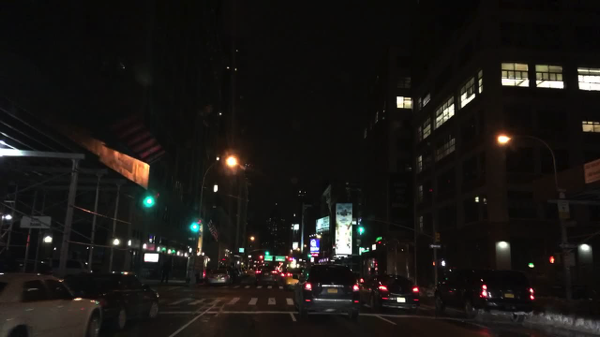car: (0, 275, 103, 337), (433, 269, 535, 323), (77, 272, 160, 331), (292, 264, 361, 322), (359, 274, 420, 314), (44, 259, 89, 277), (10, 261, 53, 274), (205, 268, 231, 286), (284, 269, 300, 288), (255, 273, 276, 286), (220, 265, 234, 284), (276, 272, 292, 284), (232, 267, 242, 281), (240, 269, 247, 275), (256, 269, 263, 275), (270, 270, 278, 275)
person: (158, 258, 172, 284)
traffic light: (145, 193, 154, 207), (191, 223, 199, 232), (547, 255, 555, 264), (357, 228, 365, 235), (311, 253, 320, 257), (258, 255, 263, 262), (264, 252, 271, 255)
traffic sign: (20, 215, 51, 228), (565, 252, 575, 267), (557, 244, 577, 249), (429, 244, 441, 250), (274, 256, 285, 262), (263, 257, 273, 262)
